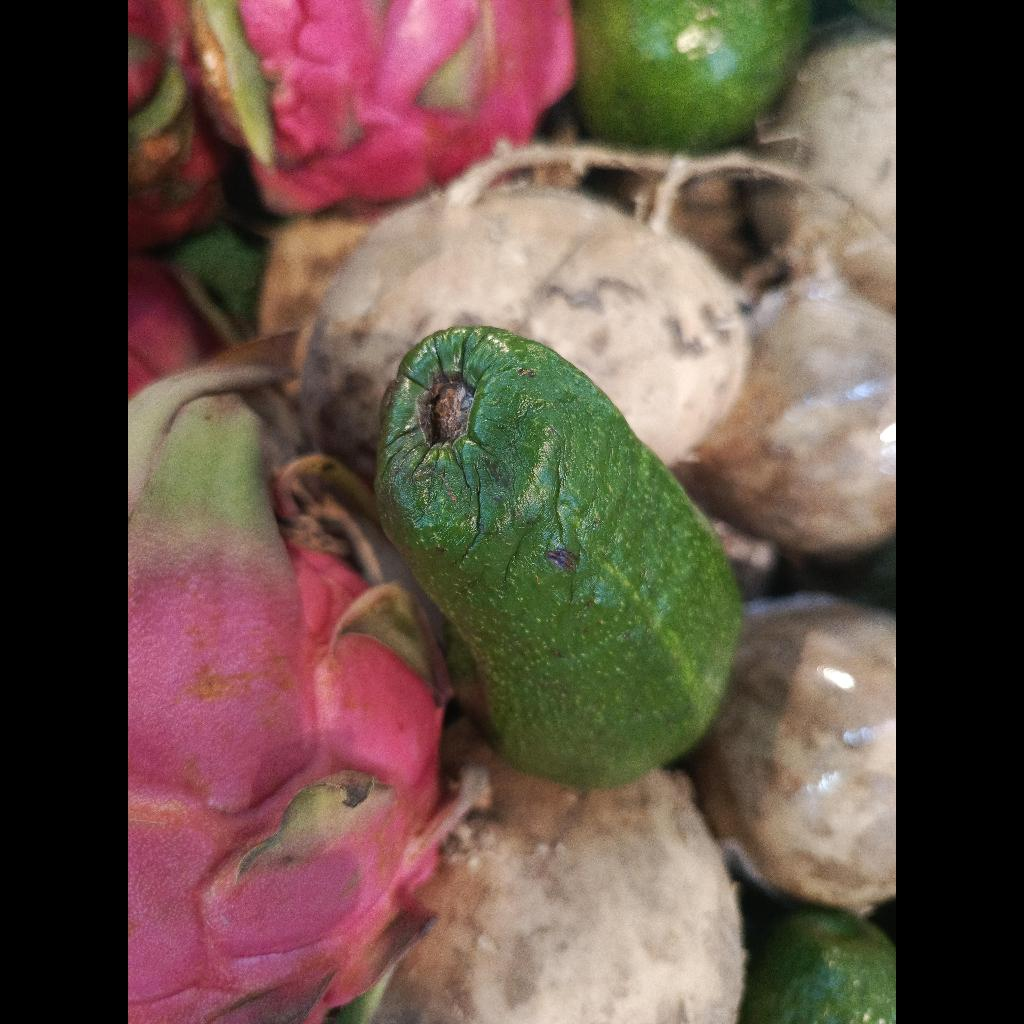pudricion_peduncular: (375, 326, 740, 788)
